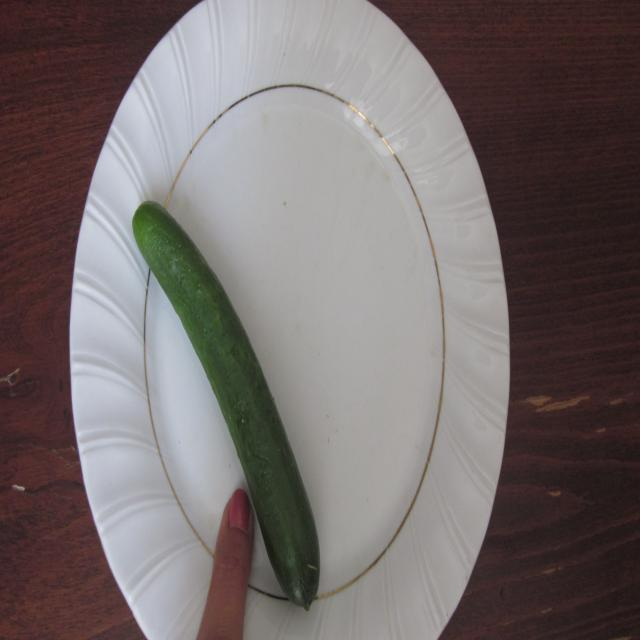cucumber: (127, 196, 333, 623)
